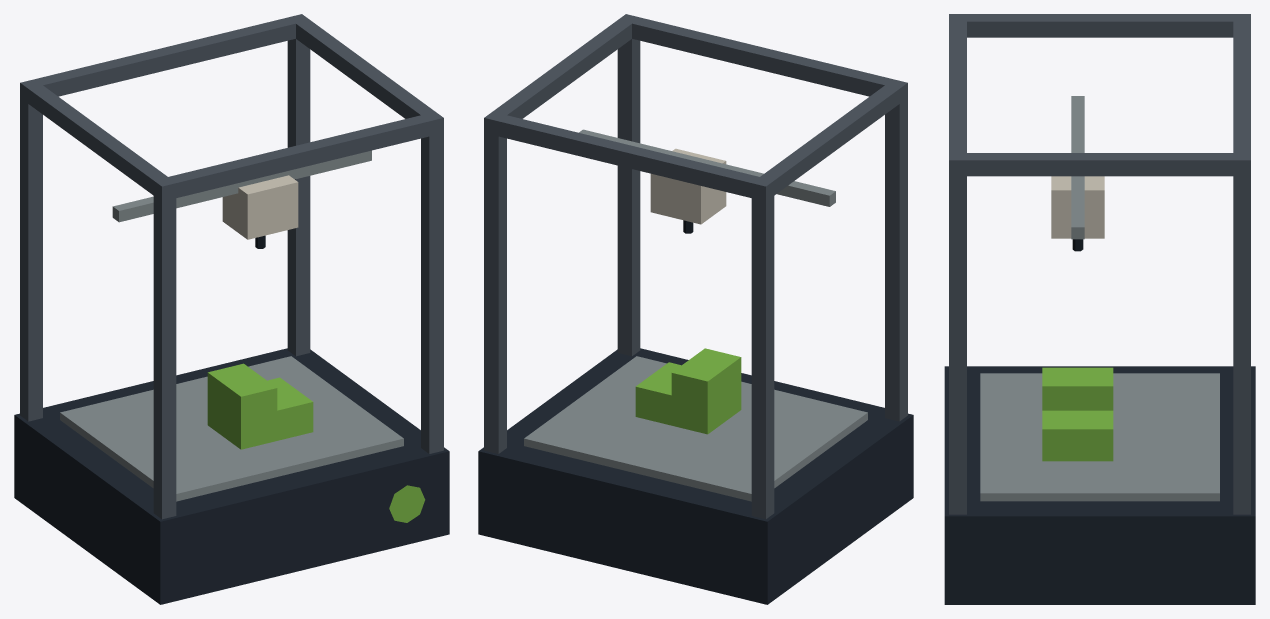
File: impressora_3d.glb
3 renders of one model, left to right at view 1: azimuth 30°, elevation 25°; view 2: azimuth 150°, elevation 25°; view 3: azimuth 270°, elevation 25°, orthographic. The views are drawn at different scales.
Parts seen in each view (by area): view 1: impressora_3d_malha; view 2: impressora_3d_malha; view 3: impressora_3d_malha.
Boxes of the visible parts, x1,y1,x2,y2 form: impressora_3d_malha: [14, 14, 449, 604]; impressora_3d_malha: [478, 14, 913, 604]; impressora_3d_malha: [944, 14, 1255, 604].
Bounding box in the file's own units: 0.8 × 1.1 × 0.705.
